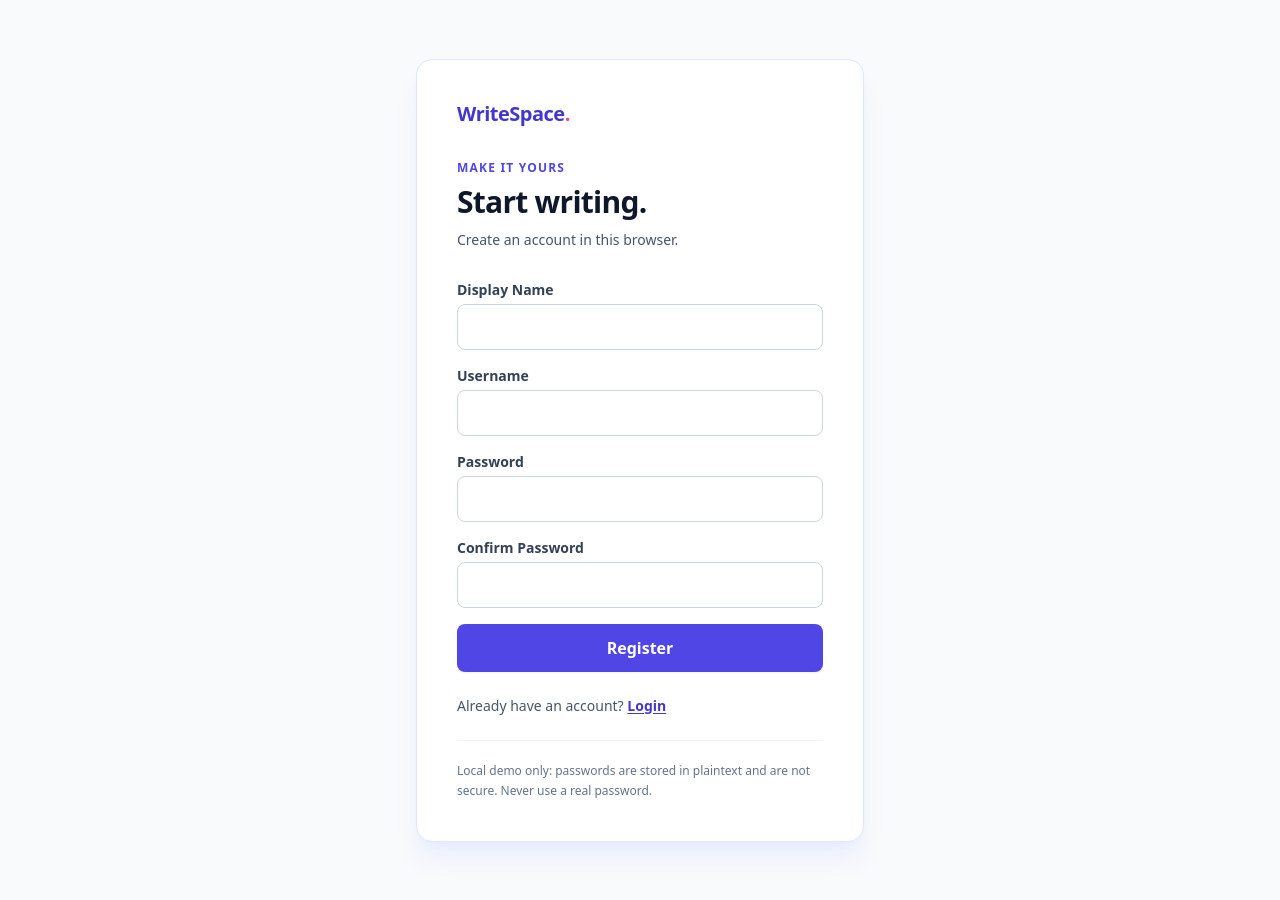
Test case: identity experience › registers, persists, guards admin navigation and logs out
The width and height of the screenshot is (1280, 900).
Type "Alice Writer" into the field labelled "Display Name" at (640, 326), box x1=457 y1=304 x2=823 y2=350
Type "alice" into the field labelled "Username" at (640, 412), box x1=457 y1=390 x2=823 y2=436
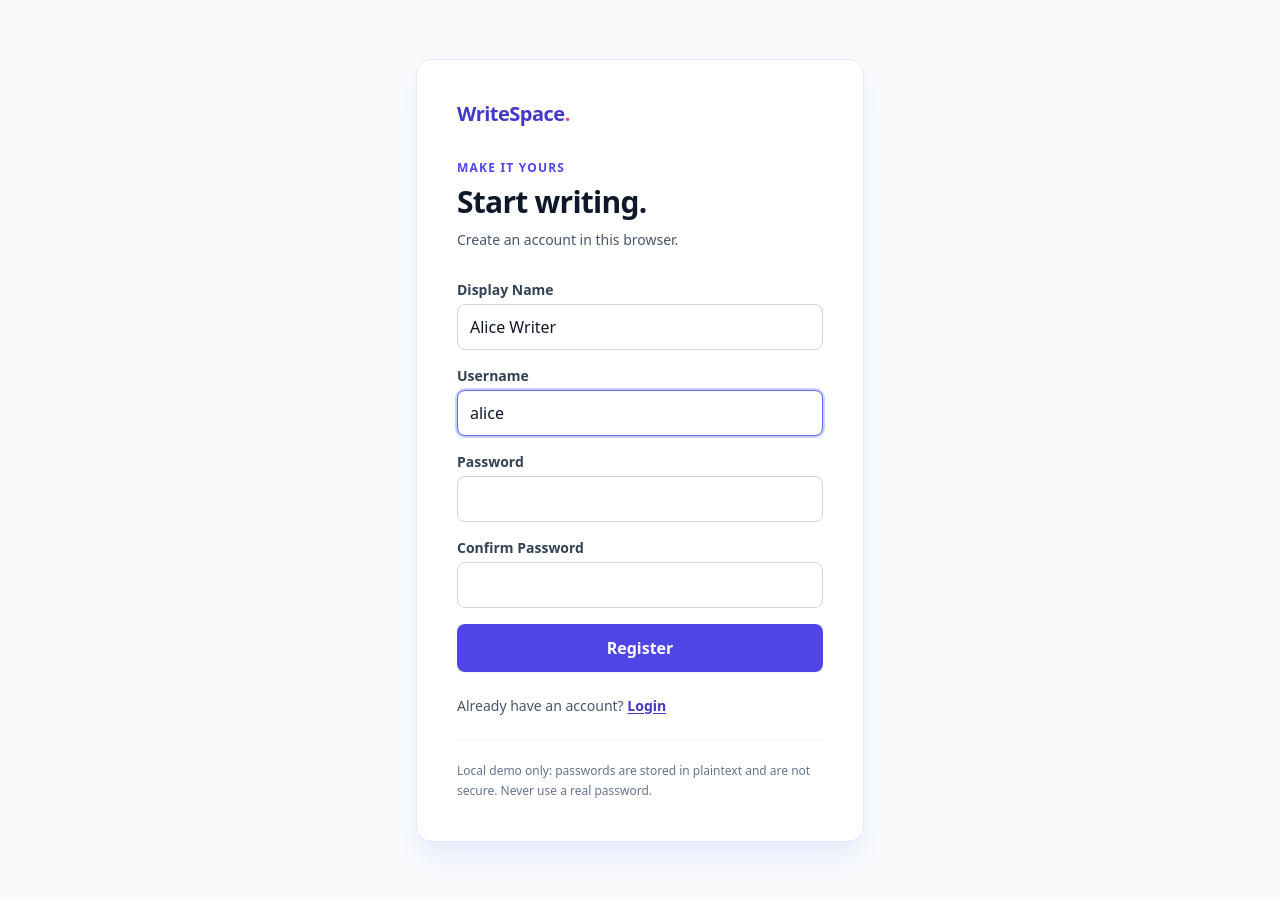
Type "demo" into the password field labelled "Password" at (640, 498), box x1=457 y1=476 x2=823 y2=522
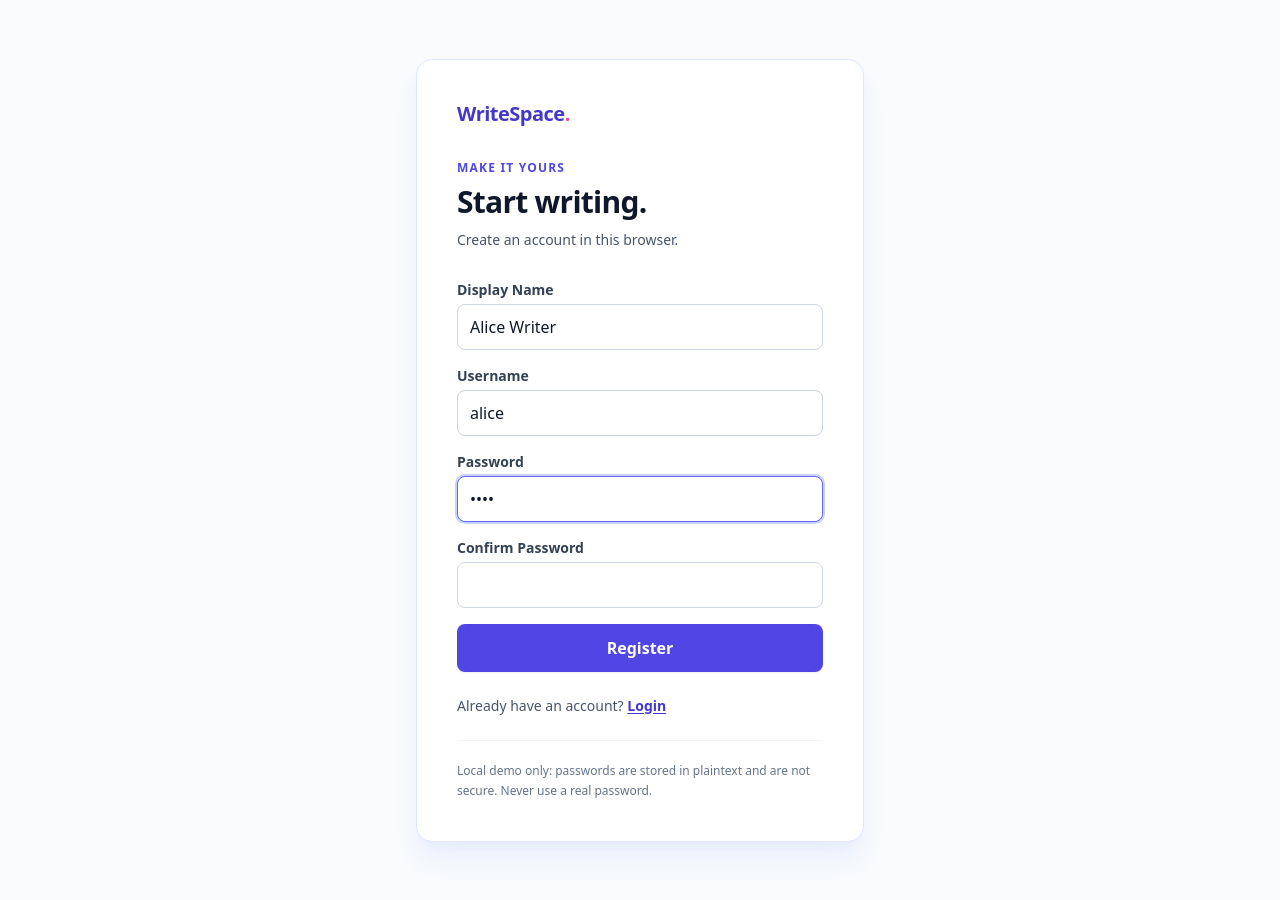
Type "demo" into the password field labelled "Confirm Password" at (640, 584), box x1=457 y1=562 x2=823 y2=608
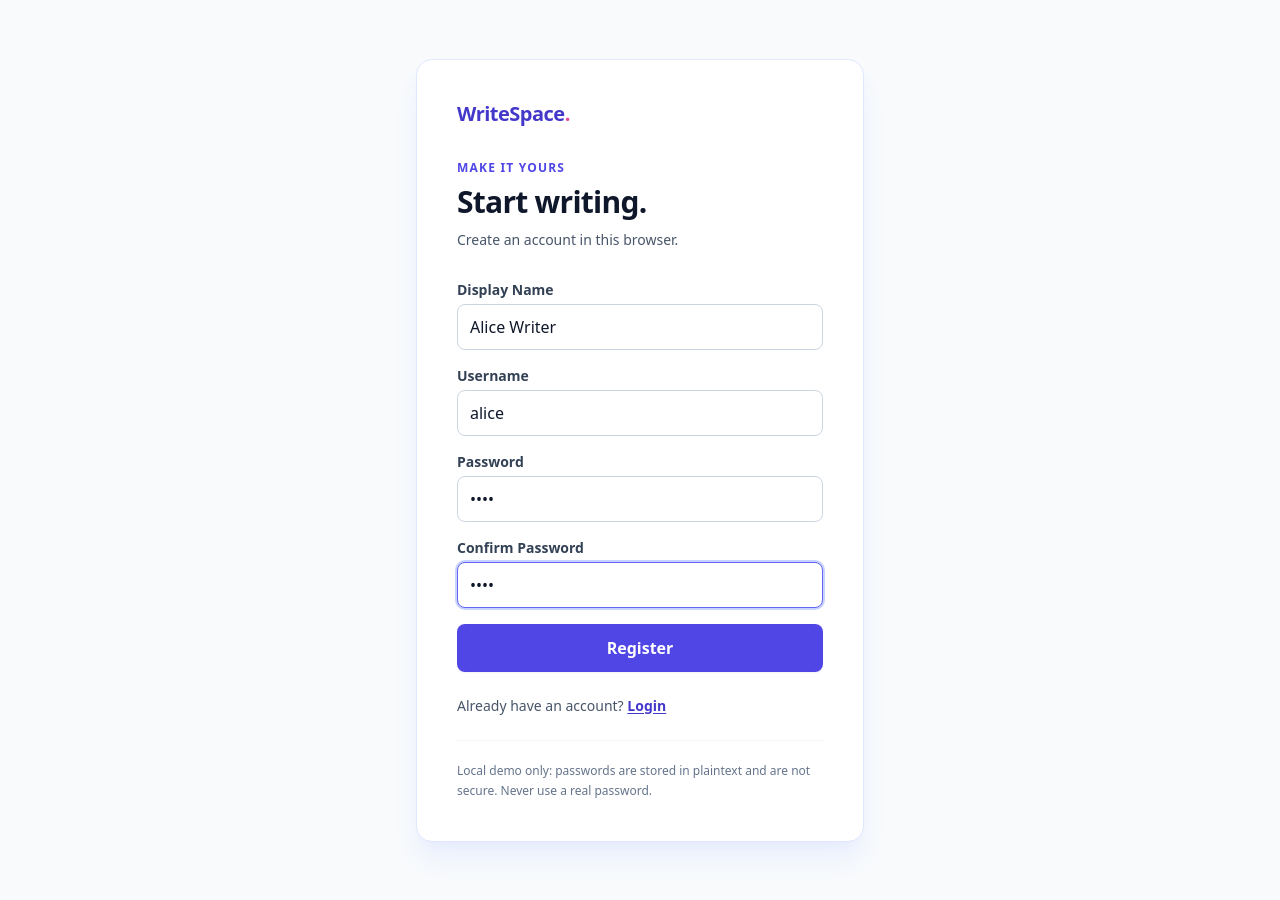
Click the button "Register" at (640, 648), box x1=457 y1=624 x2=823 y2=672
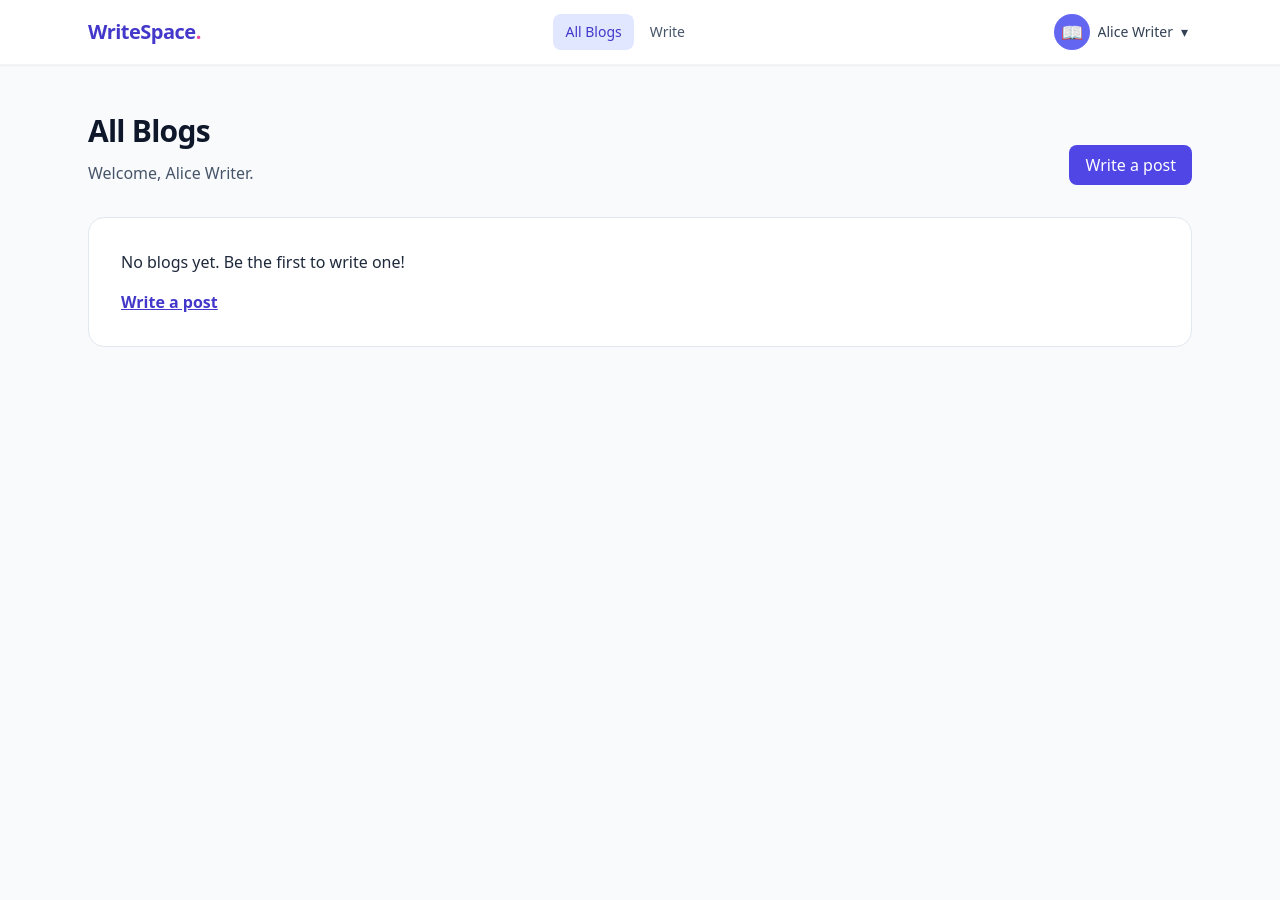
Result: the text "Welcome, Alice Writer." is shown at x1=88 y1=161 x2=254 y2=185
Click the button "📖 Alice Writer ▾" at (1121, 32), box x1=1050 y1=10 x2=1192 y2=54
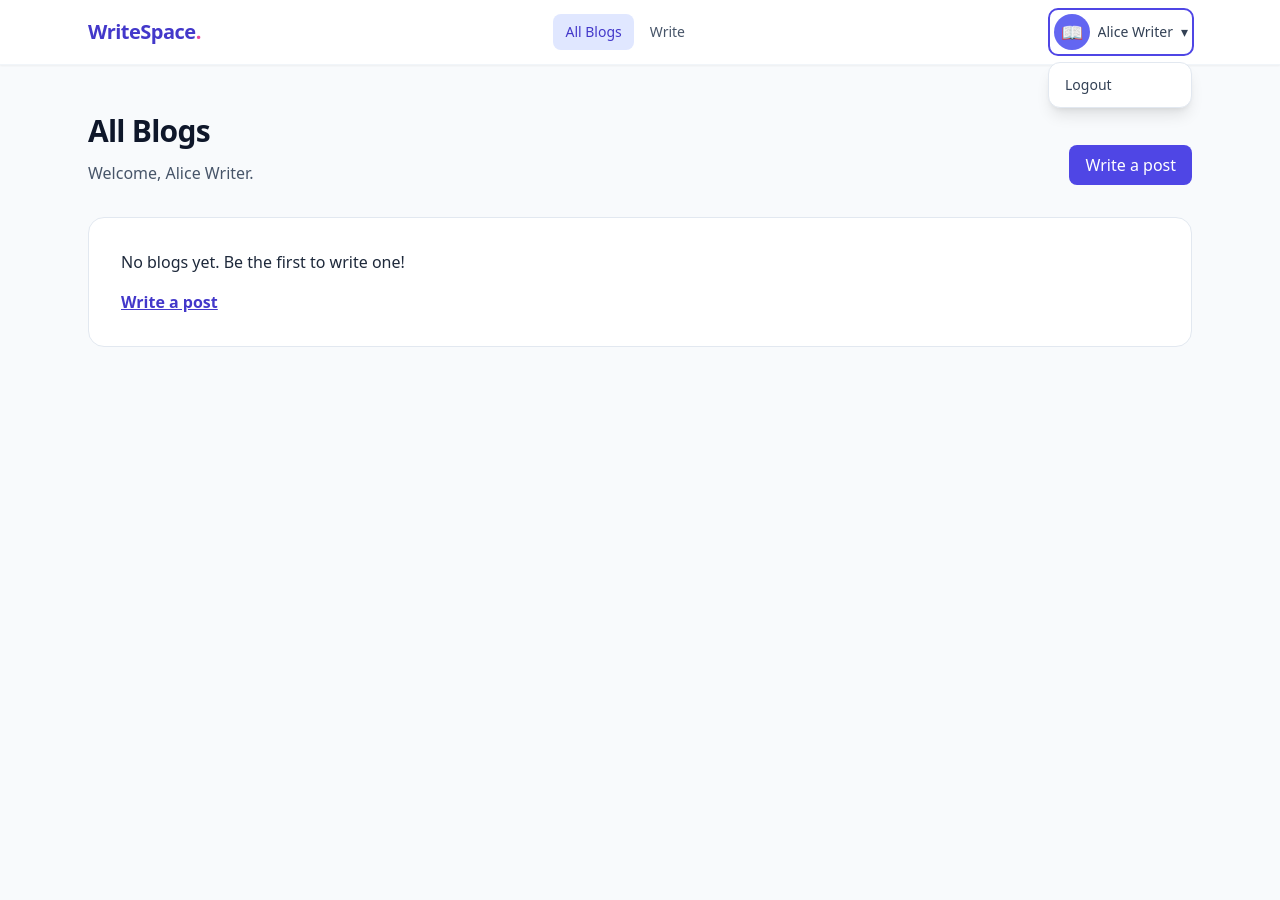
Click the button "Logout" at (1120, 85), box x1=1053 y1=67 x2=1187 y2=103
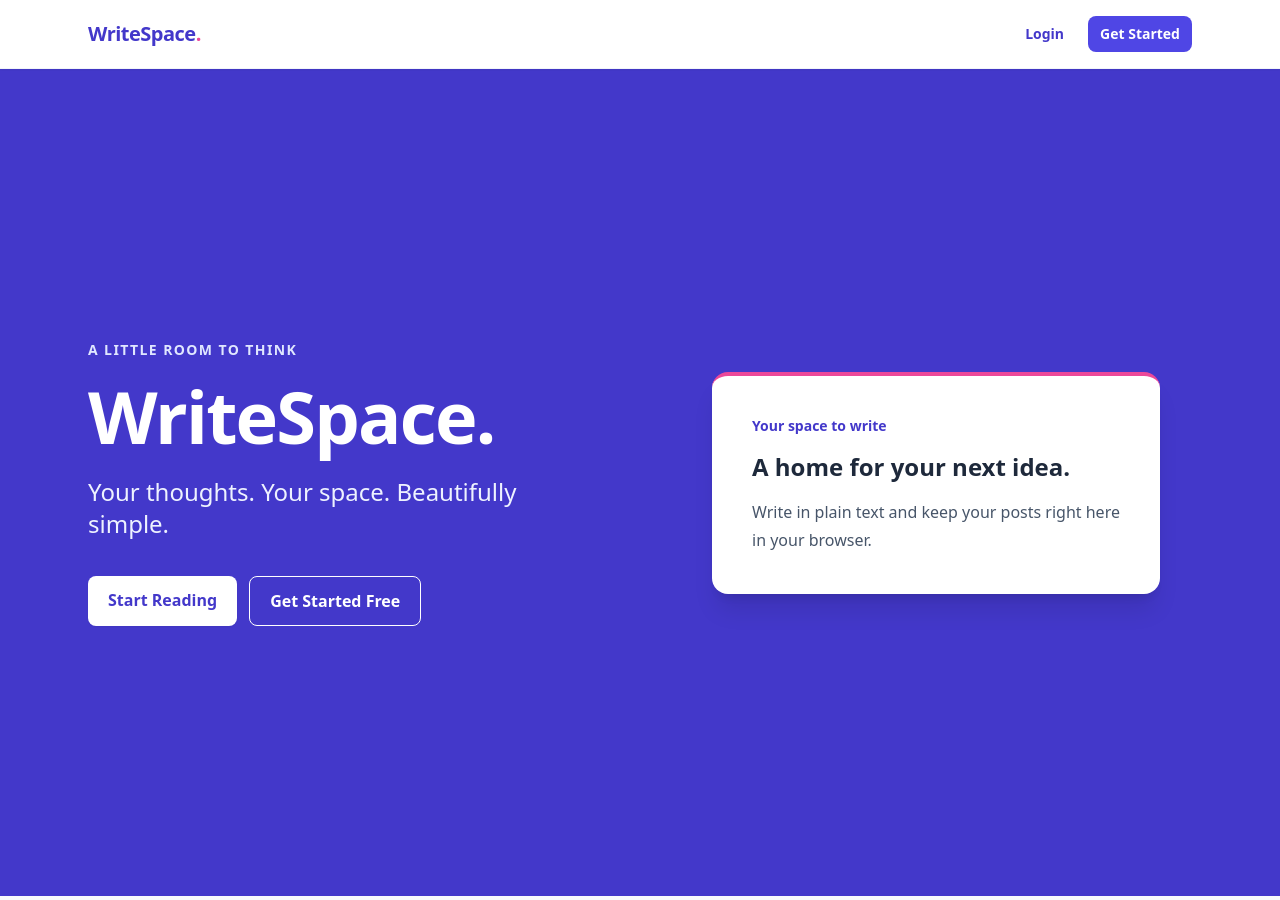
Result: the heading "WriteSpace." is shown at x1=88 y1=366 x2=494 y2=464
